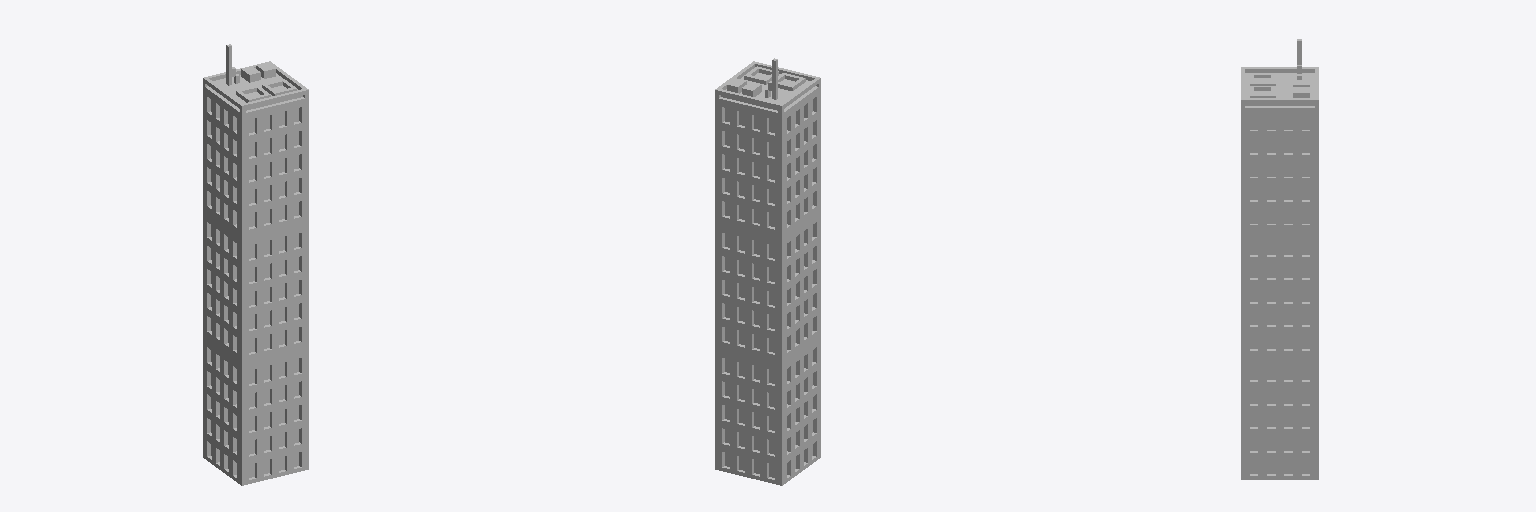
Rendered from uploads_files_2303668_skyscraperреб-0.obj.
3 views of the same model, side by side, from view 1: azimuth 30°, elevation 25°; view 2: azimuth 150°, elevation 25°; view 3: azimuth 270°, elevation 25° (orthographic).
Parts seen in each view (by area): view 1: object 1; view 2: object 1; view 3: object 1.
Part boxes in pixels (bbox=[...]): object 1: bbox=[203, 44, 308, 485]; object 1: bbox=[715, 58, 820, 485]; object 1: bbox=[1241, 39, 1318, 479].
Size of the model in its own units: 1.8 by 10.6 by 1.8.